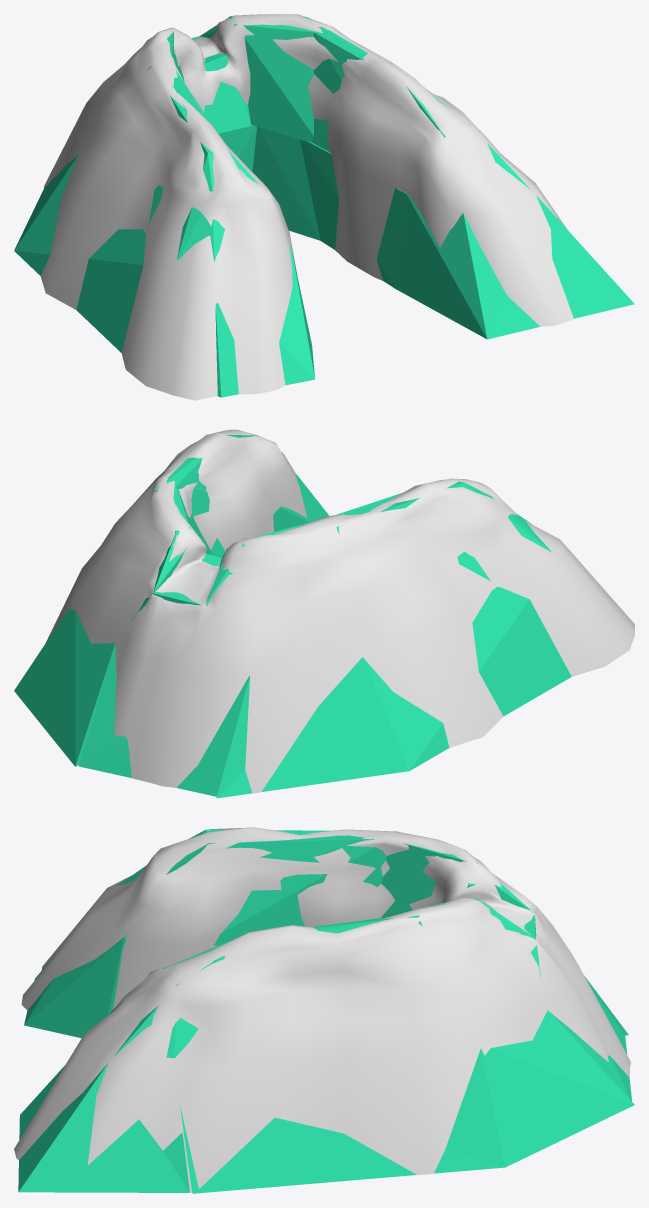
Rendered from ACE_PersonalTrench_01_small.fbx.
3 views of the same model, one above another, from view 1: azimuth 30°, elevation 25°; view 2: azimuth 150°, elevation 25°; view 3: azimuth 270°, elevation 25° (orthographic). The views are drawn at different scales.
Parts seen in each view (by area): view 1: Object_LOD0, UTM_BuildingFireView; view 2: Object_LOD0, UTM_BuildingFireView; view 3: Object_LOD0, UTM_BuildingFireView.
Part boxes in pixels (x1,y1,x2,y2): Object_LOD0: [40, 14, 573, 400]; UTM_BuildingFireView: [14, 16, 634, 397]; Object_LOD0: [46, 429, 634, 793]; UTM_BuildingFireView: [14, 435, 571, 798]; Object_LOD0: [14, 827, 630, 1192]; UTM_BuildingFireView: [18, 829, 634, 1193].
Size of what is drawn, in the model's own units: 510 by 202 by 561.
